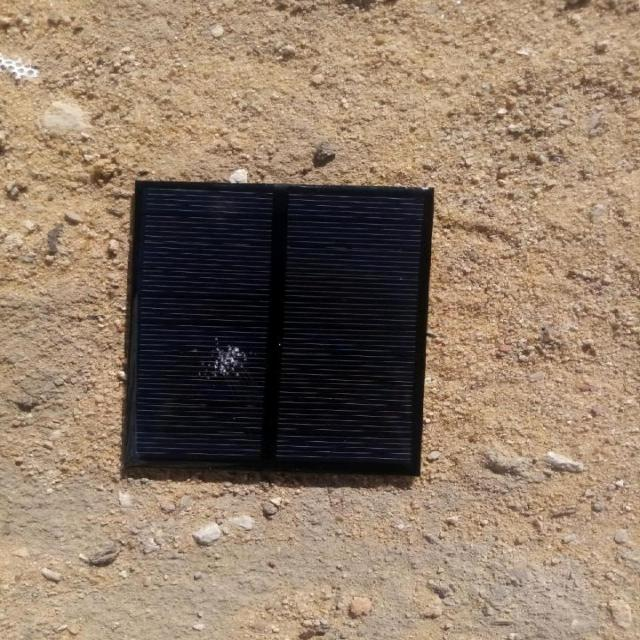faulty: (133, 182, 420, 486)
